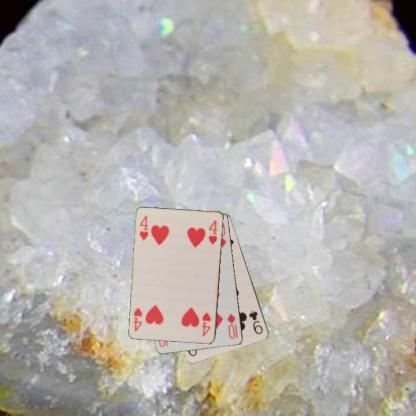10d: (225, 312, 239, 340)
4h: (137, 213, 150, 242), (199, 310, 212, 337)
9c: (247, 308, 264, 336)
